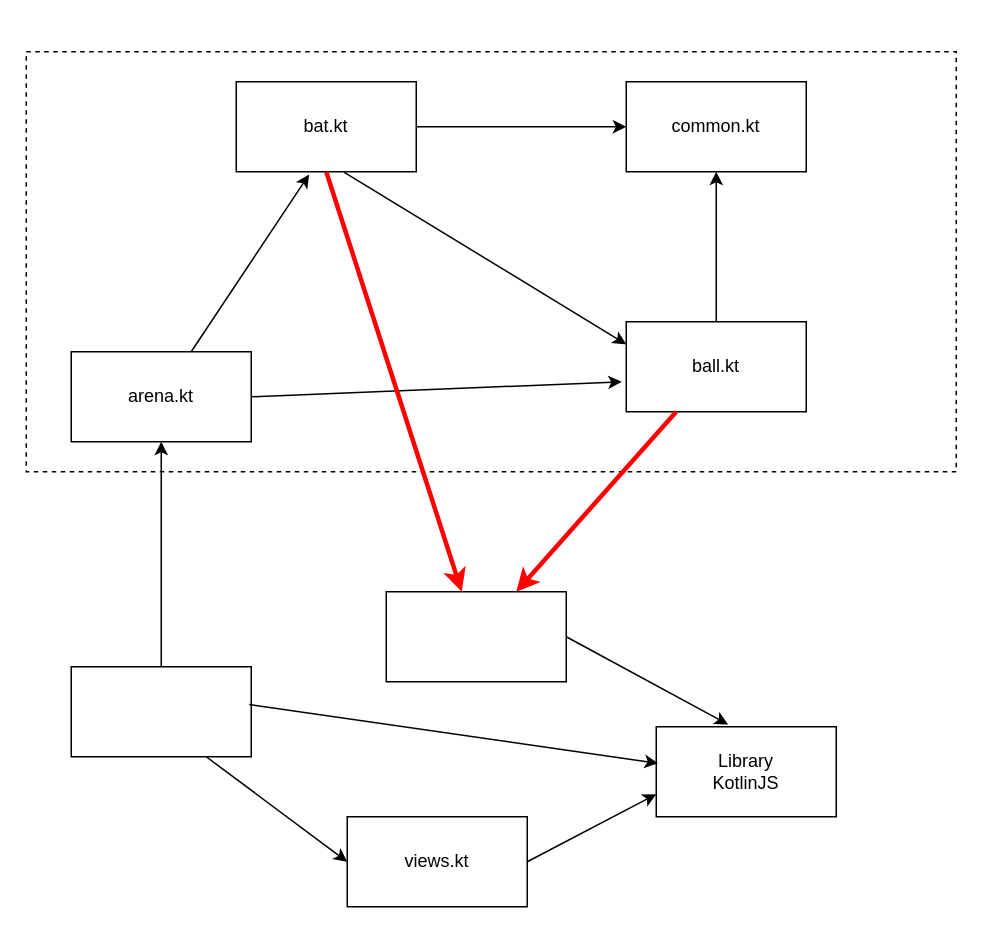
Image size: 983x933. Some labels were removed from this diagram. The box of each missing label's shape, as (x1, y1, x2, y2) in pixels:
main.kt: (70, 665, 251, 757)
Representations (model): (25, 50, 956, 472)
sfx.kt: (385, 590, 566, 682)
